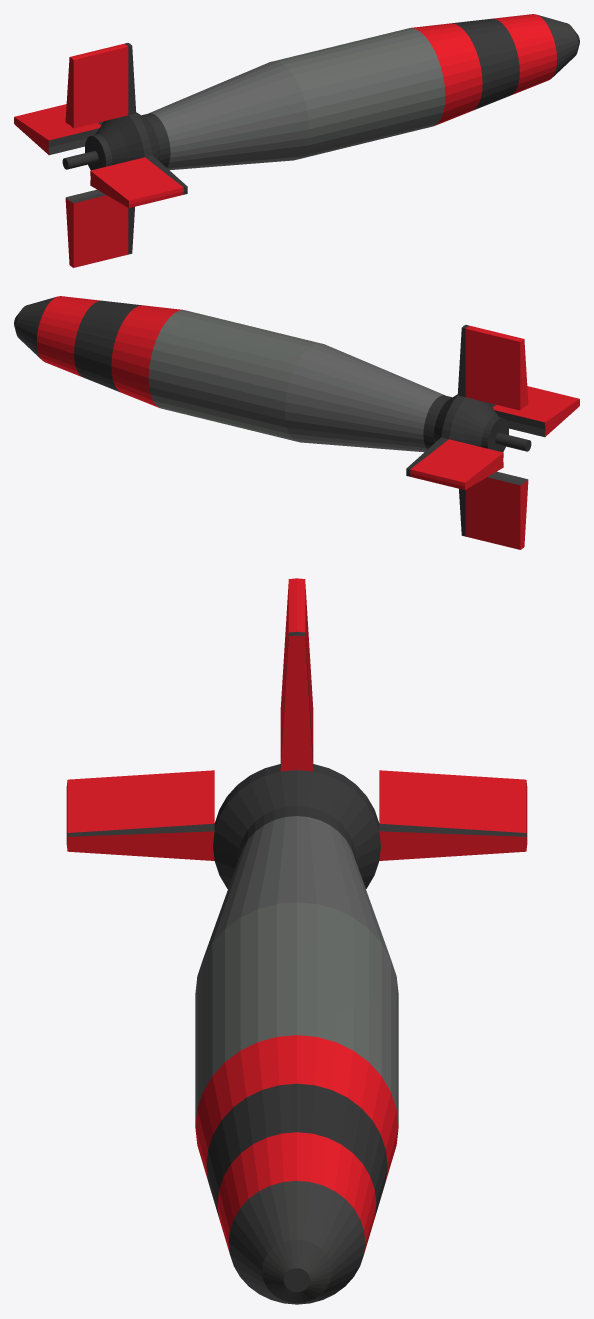
Rendered from TORPEDO.fbx.
3 views of the same model, one above another, from view 1: azimuth 30°, elevation 25°; view 2: azimuth 150°, elevation 25°; view 3: azimuth 270°, elevation 25° (orthographic). The views are drawn at different scales.
Parts seen in each view (by area): view 1: Cylinder; view 2: Cylinder; view 3: Cylinder.
Part boxes in pixels (x1,y1,x2,y2): Cylinder: (14, 14, 579, 267); Cylinder: (14, 296, 579, 549); Cylinder: (66, 578, 527, 1304).
Size of the model in its own units: 804 by 314 by 314.
2 materials, 1 textured.
